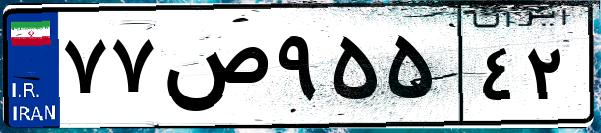2: (525, 38, 570, 115)
4: (475, 38, 525, 113)
5: (385, 28, 445, 110), (330, 28, 385, 110)
7: (57, 26, 110, 100), (110, 28, 158, 98)
9: (270, 28, 330, 110)
ص: (158, 20, 270, 120)
